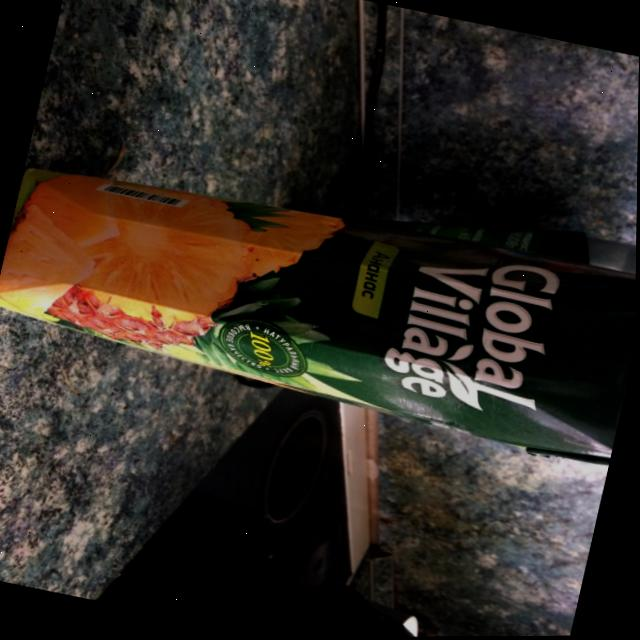Juice Global Village pineapple: (0, 151, 638, 461)
food-products: (0, 152, 638, 455)
